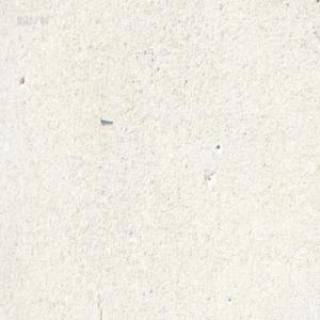Nailtrack_idkeyframe: (98, 114, 112, 122)
